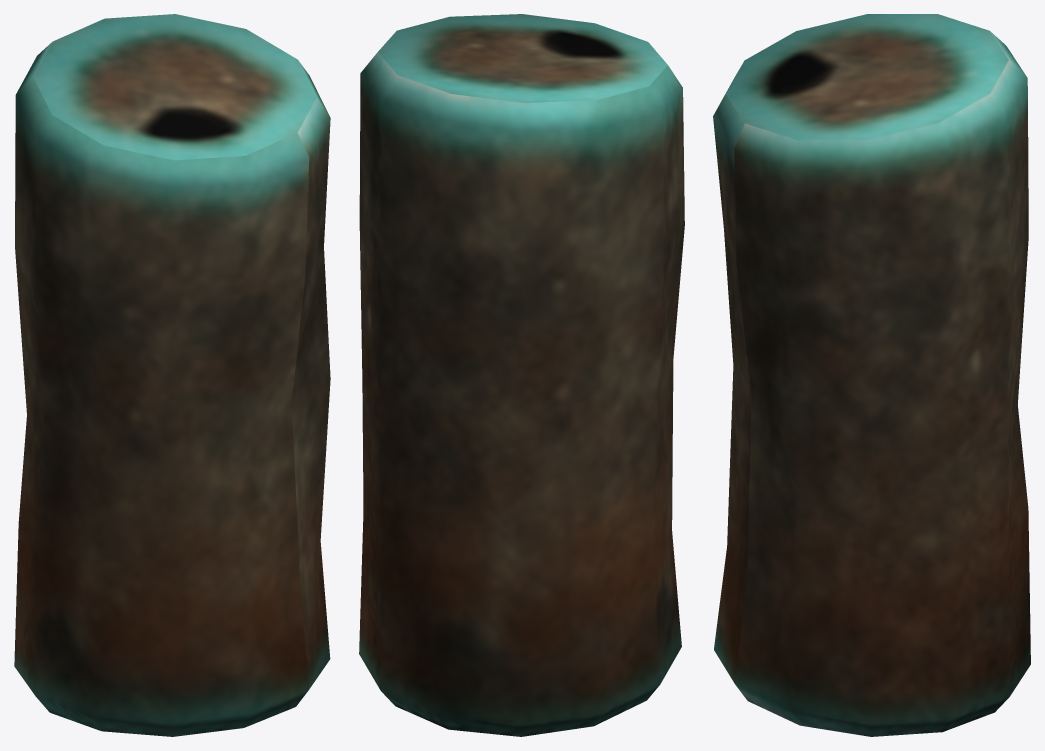
File: prop_debris_small_lata.glb
3 views of the same model, side by side, from view 1: azimuth 30°, elevation 25°; view 2: azimuth 150°, elevation 25°; view 3: azimuth 270°, elevation 25° (orthographic). The views are drawn at different scales.
Visible parts, largest first — view 1: prop_debris_small_lata_mesh; view 2: prop_debris_small_lata_mesh; view 3: prop_debris_small_lata_mesh.
Boxes of the visible parts, x1,y1,x2,y2 form: prop_debris_small_lata_mesh: (14, 14, 330, 736); prop_debris_small_lata_mesh: (359, 14, 684, 736); prop_debris_small_lata_mesh: (713, 14, 1030, 736).
Size of the model in its own units: 0.0695 by 0.15 by 0.0694.
Materials: 1 (1 with a texture image).
